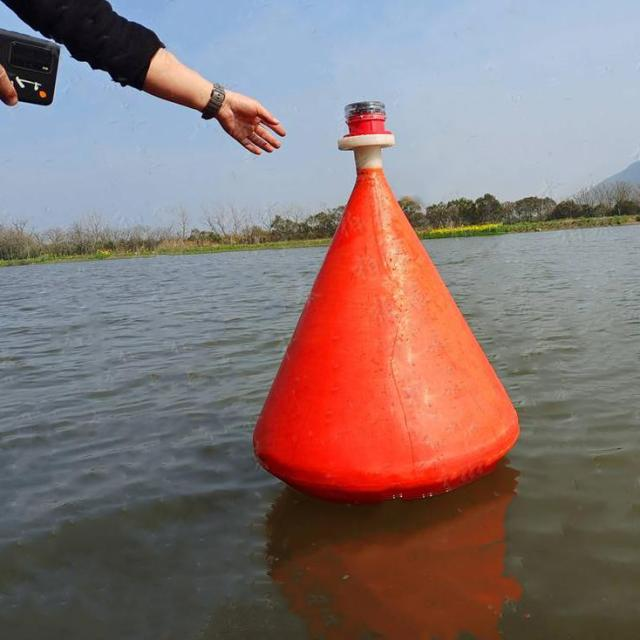buoy: (253, 100, 530, 504)
